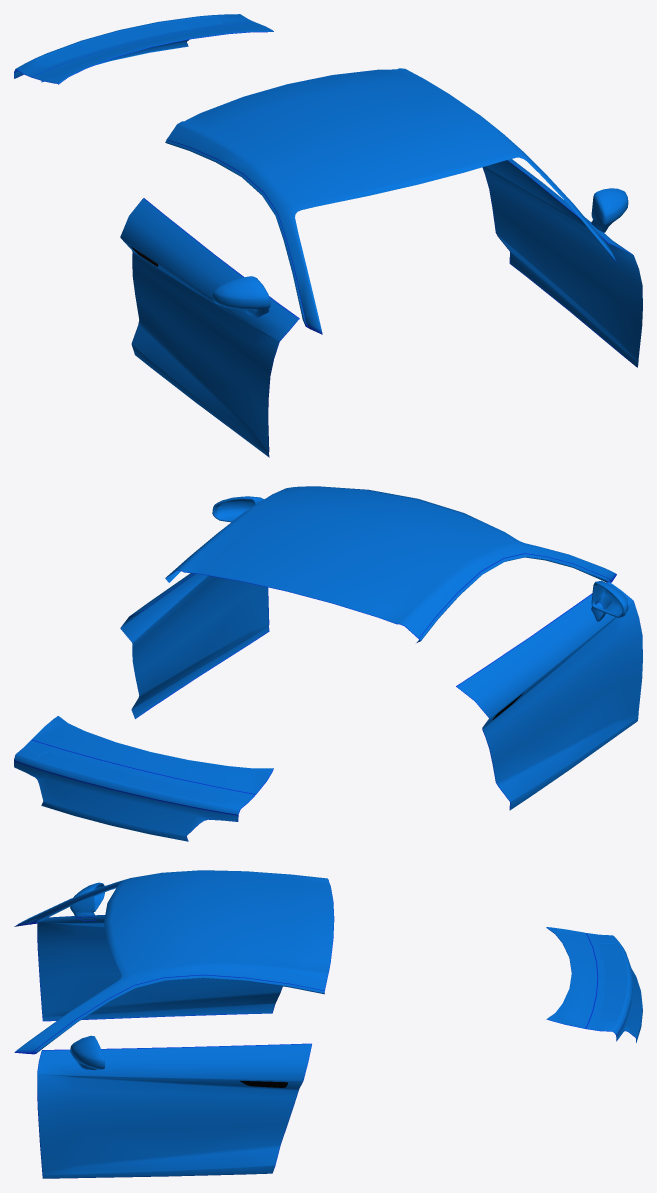
Rendered from AudiR8_Chassis_Duco.fbx.
3 renders of one model, top to bottom at view 1: azimuth 30°, elevation 25°; view 2: azimuth 150°, elevation 25°; view 3: azimuth 270°, elevation 25°, orthographic. The views are drawn at different scales.
Visible parts, largest first — view 1: AudiR8_Chassis_Duco; view 2: AudiR8_Chassis_Duco; view 3: AudiR8_Chassis_Duco.
Part boxes in pixels (x1,y1,x2,y2): AudiR8_Chassis_Duco: (14,14,642,457); AudiR8_Chassis_Duco: (14,486,642,841); AudiR8_Chassis_Duco: (14,870,642,1178).
Bounding box in the file's own units: 205 × 103 × 308.
